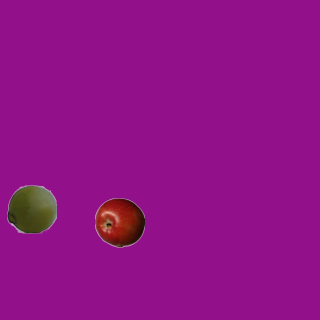Apple Braeburn: (94, 197, 144, 247)
Grape White 4: (6, 183, 56, 233)
